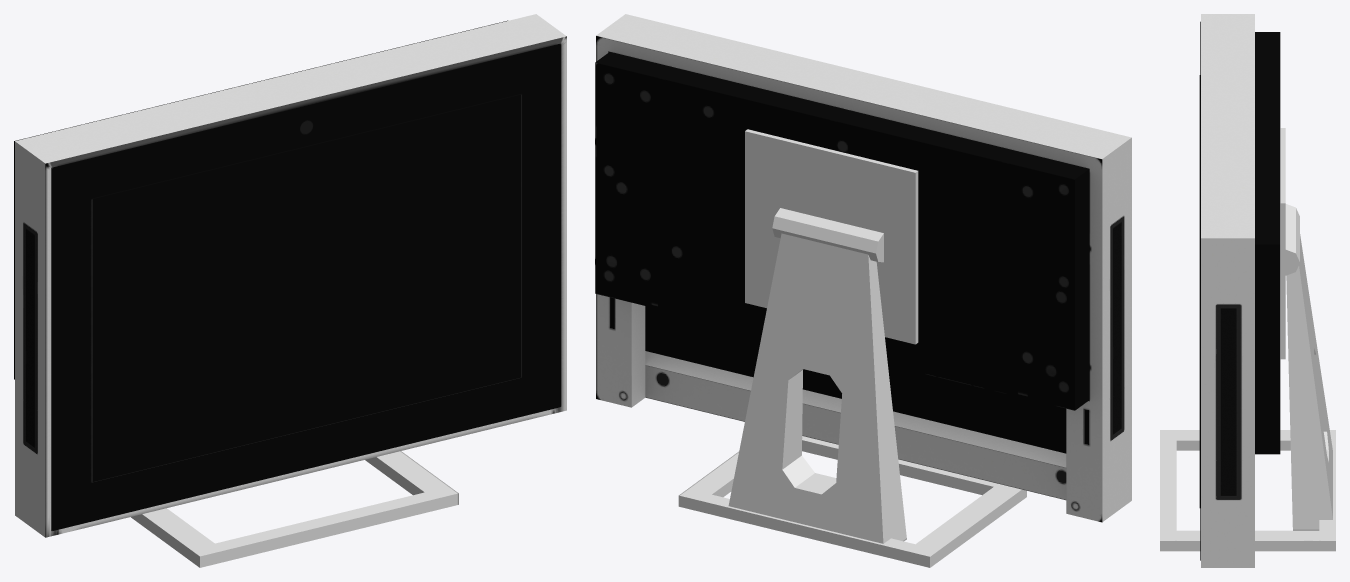
The model's file is UTC_510st_white.fbx.
The picture shows the model from 3 angles, left to right: view 1: azimuth 30°, elevation 25°; view 2: azimuth 150°, elevation 25°; view 3: azimuth 270°, elevation 25°; orthographic projection. The views are drawn at different scales.
Parts seen in each view (by area): view 1: A, B, C, E, D; view 2: D, E, C, B; view 3: C, E, D, A, B.
Boxes of the visible parts, x1,y1,x2,y2 form: A: [92, 94, 520, 481]; B: [51, 43, 561, 531]; C: [15, 14, 566, 537]; E: [131, 451, 458, 567]; D: [14, 20, 507, 379]; D: [595, 52, 1089, 410]; E: [678, 129, 1026, 567]; C: [596, 14, 1131, 522]; B: [645, 306, 1066, 453]; C: [1201, 14, 1254, 567]; E: [1160, 128, 1335, 551]; D: [1255, 32, 1280, 454]; A: [1199, 75, 1200, 507]; B: [1200, 21, 1200, 560].
Size of the model in its own units: 26.59 by 20.44 by 8.81.
